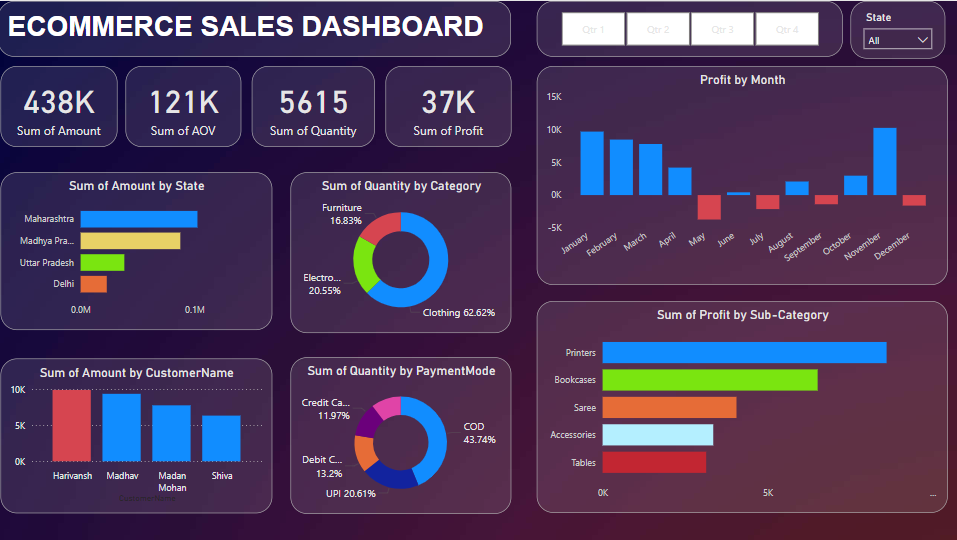

The dashboard page shown, as its layout file describes it:
{"tool":"powerbi","page":{"name":"Page 1","canvas":[1280,720],"ordinal":0},"visuals":[{"type":"textbox","box":[0,0,684,74],"z":0},{"type":"columnChart","title":"Profit by Month","fields":{"Category":["Orders.Order Date.Variation.Date Hierarchy.Month"],"Y":["Details.Profit"]},"box":[718,86,548,292],"z":1000},{"type":"barChart","fields":{"Category":["Details.Sub-Category"],"Y":["Details.Profit"]},"box":[718,400,548,282],"z":2000},{"type":"donutChart","fields":{"Category":["Details.PaymentMode"],"Y":["Details.Quantity"]},"box":[390,475.6,294.4,208.9],"z":3000},{"type":"donutChart","fields":{"Category":["Details.Category"],"Y":["Details.Quantity"]},"box":[390,227.8,294.4,214.4],"z":4000},{"type":"card","fields":{"Values":["Details.Amount"]},"box":[4,86,156,108],"z":5000},{"type":"card","fields":{"Values":["Details.Quantity"]},"box":[338,86,164,108],"z":6000},{"type":"card","fields":{"Values":["Details.Profit"]},"box":[516,86,168,108],"z":7000},{"type":"card","fields":{"Values":["Details.AOV"]},"box":[170,86,154,108],"z":8000},{"type":"barChart","fields":{"Category":["Orders.State"],"Y":["Details.Amount"]},"box":[4,228,362,210],"z":9000},{"type":"columnChart","fields":{"Category":["Orders.CustomerName"],"Y":["Details.Amount"]},"box":[4,476,362,206],"z":10000},{"type":"slicer","fields":{"Values":["Orders.Order Date.Variation.Date Hierarchy.Quarter"]},"box":[717.8,0,407.8,74.4],"z":10001},{"type":"slicer","fields":{"Values":["Orders.State"]},"box":[1136.7,0,126.7,76.7],"z":10002}]}

Visuals, with their boxes in screenshot pixels (x1, y1, x2, y2), scaled from the page's 1280x720 canvas onto the 957x540 screenshot:
textbox: BBox(0, 0, 511, 56)
"Profit by Month" columnChart: BBox(537, 64, 947, 284)
barChart - Details.Sub-Category x Details.Profit: BBox(537, 300, 947, 512)
donutChart - Details.PaymentMode x Details.Quantity: BBox(292, 357, 512, 513)
donutChart - Details.Category x Details.Quantity: BBox(292, 171, 512, 332)
card - Details.Amount: BBox(3, 64, 120, 146)
card - Details.Quantity: BBox(253, 64, 375, 146)
card - Details.Profit: BBox(386, 64, 511, 146)
card - Details.AOV: BBox(127, 64, 242, 146)
barChart - Orders.State x Details.Amount: BBox(3, 171, 274, 328)
columnChart - Orders.CustomerName x Details.Amount: BBox(3, 357, 274, 512)
slicer - Orders.Order Date.Variation.Date Hierarchy.Quarter: BBox(537, 0, 842, 56)
slicer - Orders.State: BBox(850, 0, 945, 58)
